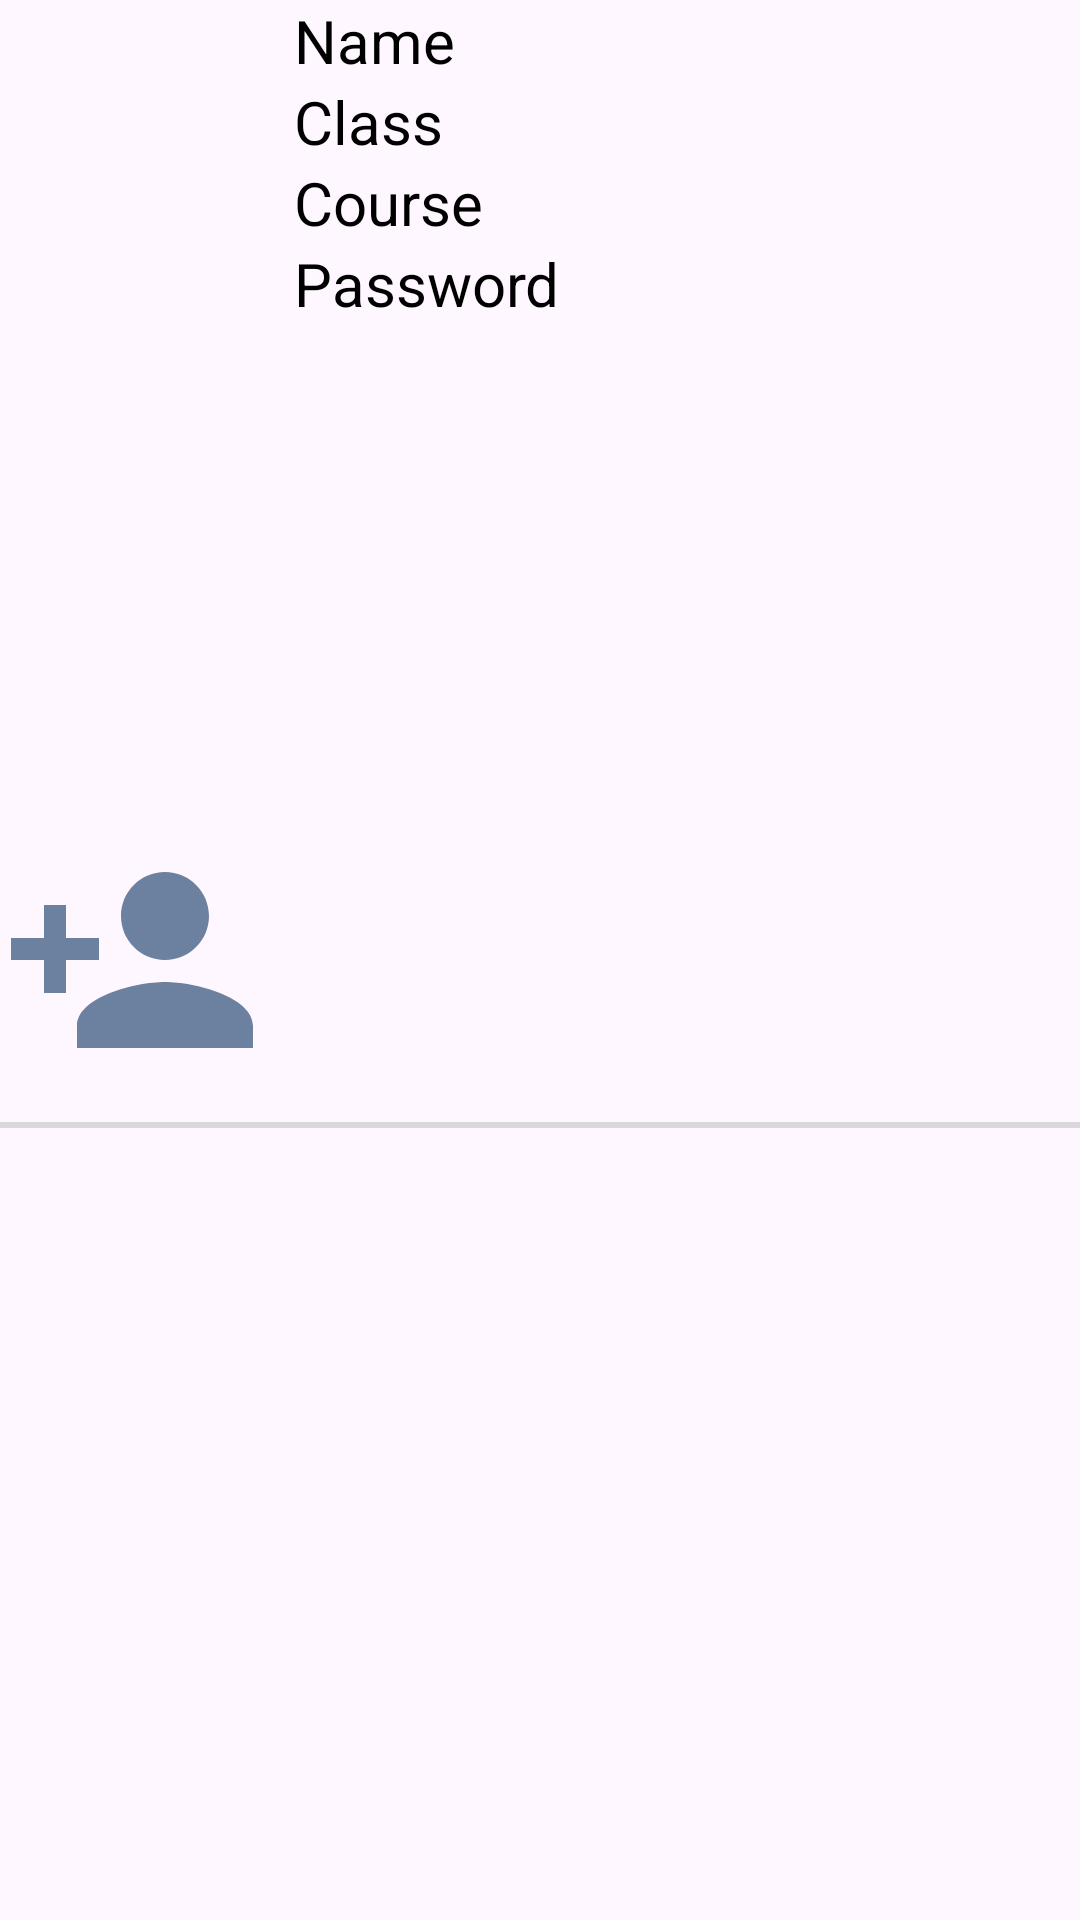

Where to tap for icons on this 1080x1920 app screen, as (x=x, y=y):
person add: (x=132, y=960)
